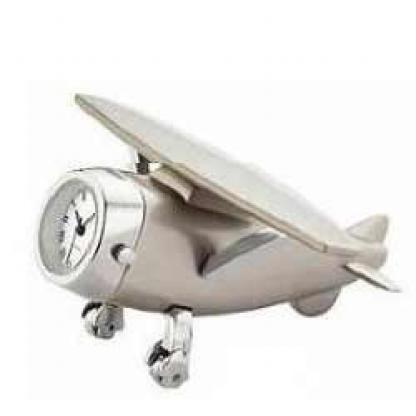CIV_Plane: (34, 87, 398, 391)
